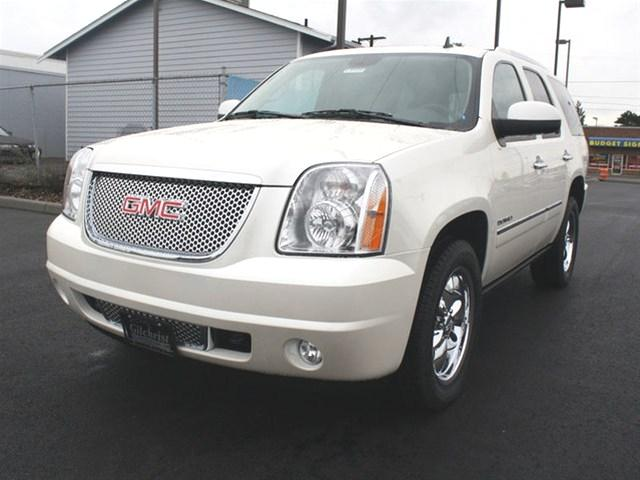GMC: (115, 185, 196, 225)
